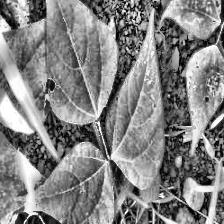ALS: (110, 10, 166, 184), (40, 0, 113, 123), (181, 48, 224, 136)
